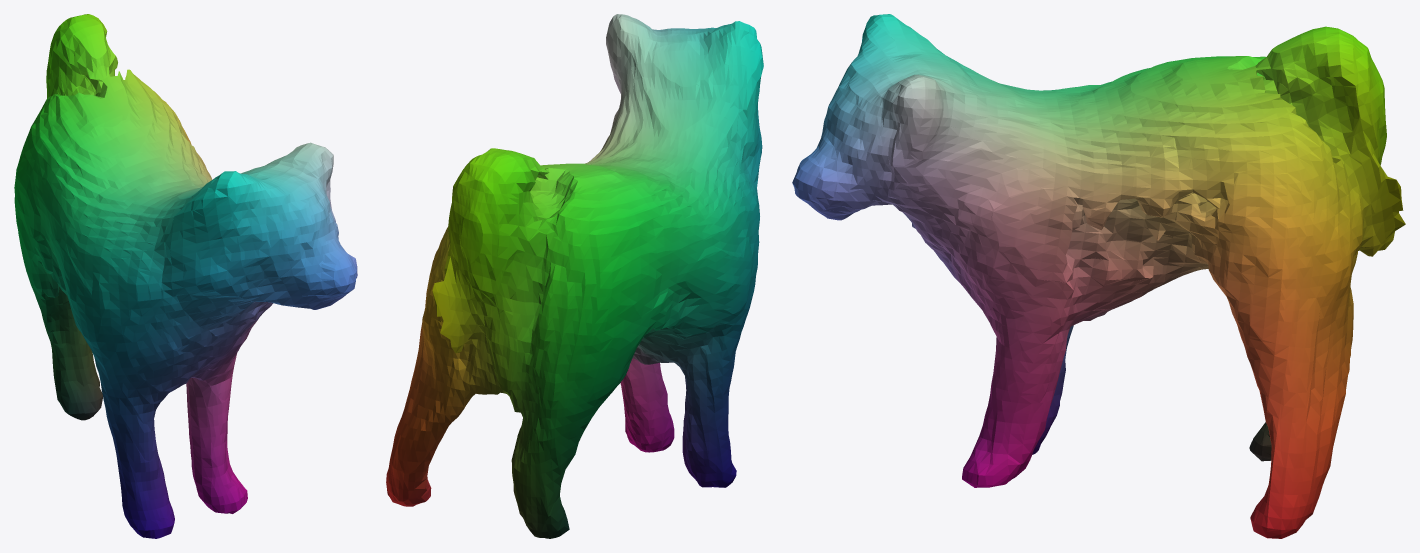
Rendered from shiba-haru-1001-mesh-00091.obj.
3 views of the same model, side by side, from view 1: azimuth 30°, elevation 25°; view 2: azimuth 150°, elevation 25°; view 3: azimuth 270°, elevation 25° (orthographic). The views are drawn at different scales.
Bounding box in the file's own units: 0.0599 × 0.0943 × 0.1117.
